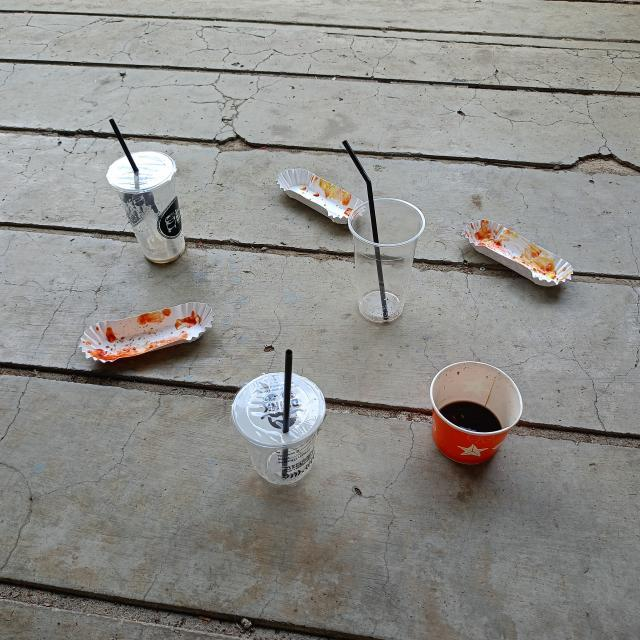recyclable waste: (222, 363, 337, 491), (417, 356, 530, 474), (340, 191, 430, 330), (75, 292, 224, 372), (100, 142, 193, 270), (456, 210, 582, 294), (269, 162, 376, 232)
